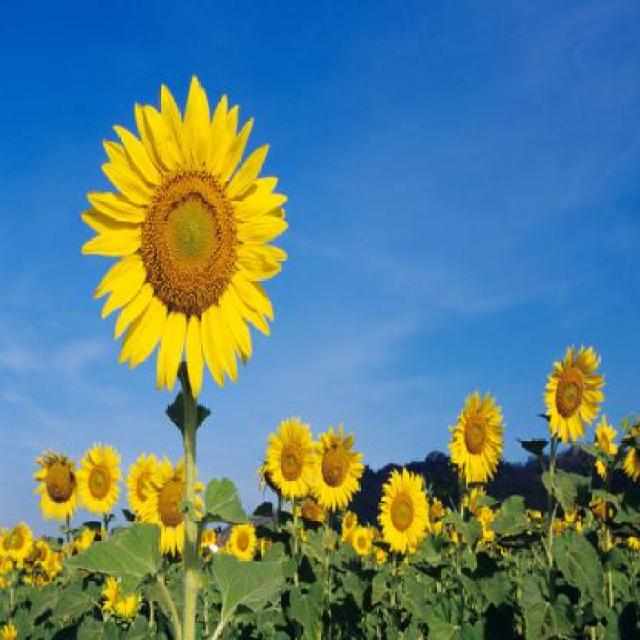sunflower: (82, 70, 295, 378), (537, 324, 621, 442), (367, 442, 448, 553), (445, 385, 513, 486), (262, 408, 320, 504), (310, 419, 365, 518), (78, 435, 124, 523), (30, 442, 85, 515)
